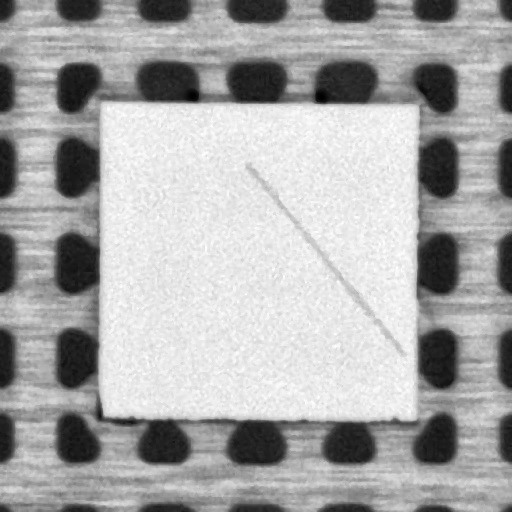DIE_CRACK: (246, 164, 401, 353)
